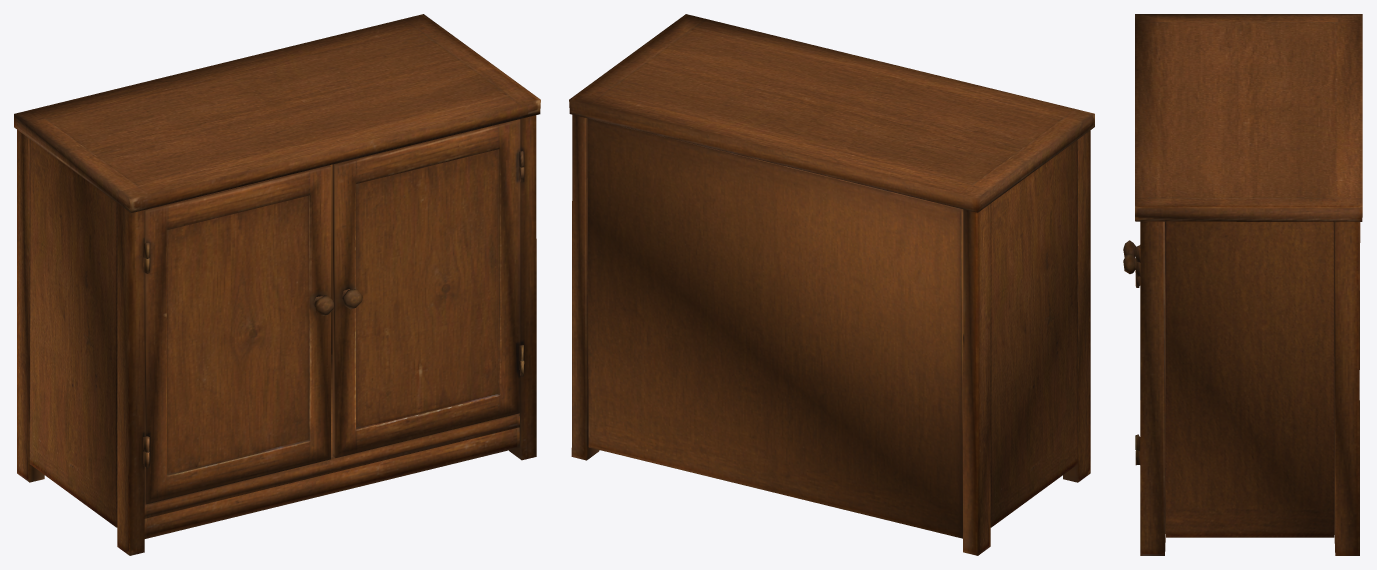
The model's file is wooden_cabinet_3d_model.fbx.
3 renders of one model, left to right at view 1: azimuth 30°, elevation 25°; view 2: azimuth 150°, elevation 25°; view 3: azimuth 270°, elevation 25°, orthographic. The views are drawn at different scales.
Parts seen in each view (by area): view 1: tripo_3d1b9b2b_caca_4ee1_baad_3a479f256a87; view 2: tripo_3d1b9b2b_caca_4ee1_baad_3a479f256a87; view 3: tripo_3d1b9b2b_caca_4ee1_baad_3a479f256a87.
Part boxes in pixels (left/top/right/bottom): tripo_3d1b9b2b_caca_4ee1_baad_3a479f256a87: left=14, top=14, right=540, bottom=555; tripo_3d1b9b2b_caca_4ee1_baad_3a479f256a87: left=569, top=14, right=1094, bottom=555; tripo_3d1b9b2b_caca_4ee1_baad_3a479f256a87: left=1123, top=14, right=1362, bottom=555.
Bounding box in the file's own units: 0.9995 × 0.8374 × 0.521.
Materials: 1 (1 with a texture image).
